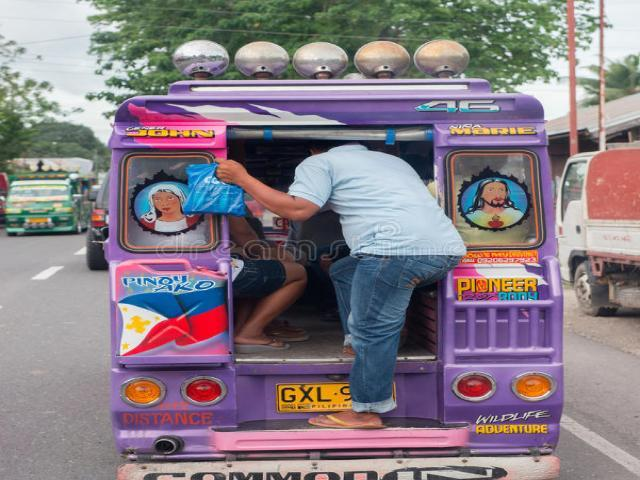jeepney: (52, 50, 624, 480)
